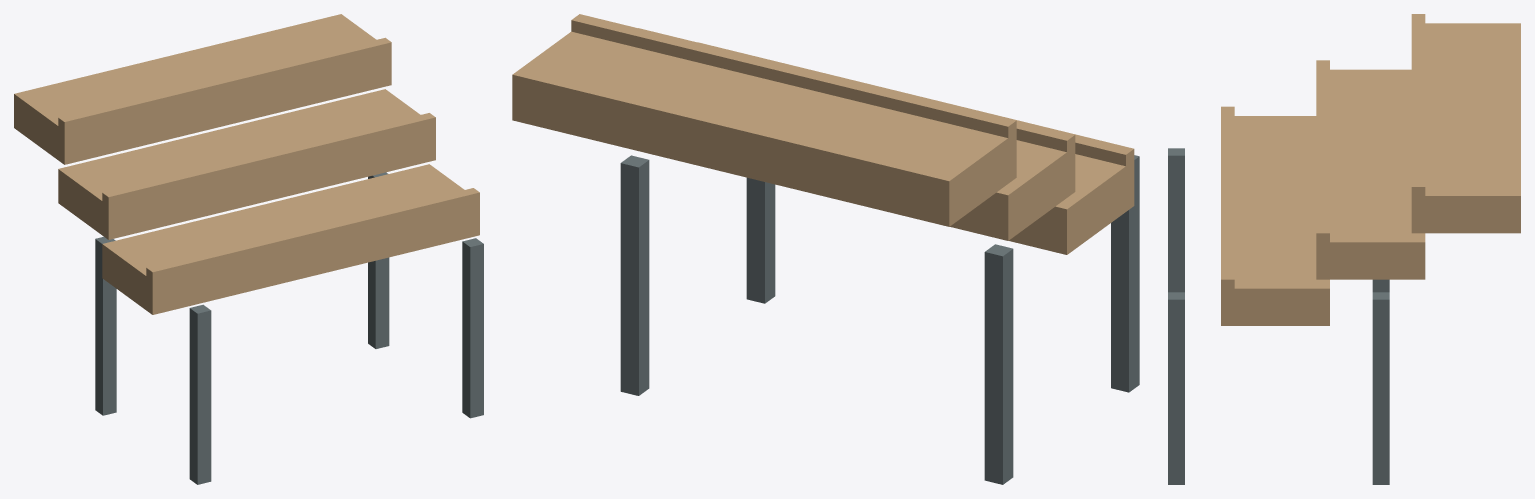
Rendered from supermarket-operations-produce-tilt-bin-d29b0bbf__26753.glb.
3 views of the same model, side by side, from view 1: azimuth 30°, elevation 25°; view 2: azimuth 150°, elevation 25°; view 3: azimuth 270°, elevation 25° (orthographic). The views are drawn at different scales.
Parts seen in each view (by area): view 1: produce-tilt-bin; view 2: produce-tilt-bin; view 3: produce-tilt-bin.
Part boxes in pixels (box(x1,y1,x2,y2)): produce-tilt-bin: box(14, 14, 483, 484); produce-tilt-bin: box(512, 14, 1139, 484); produce-tilt-bin: box(1168, 14, 1520, 484).
Bounding box in the file's own units: 1.2 × 1 × 1.04.
